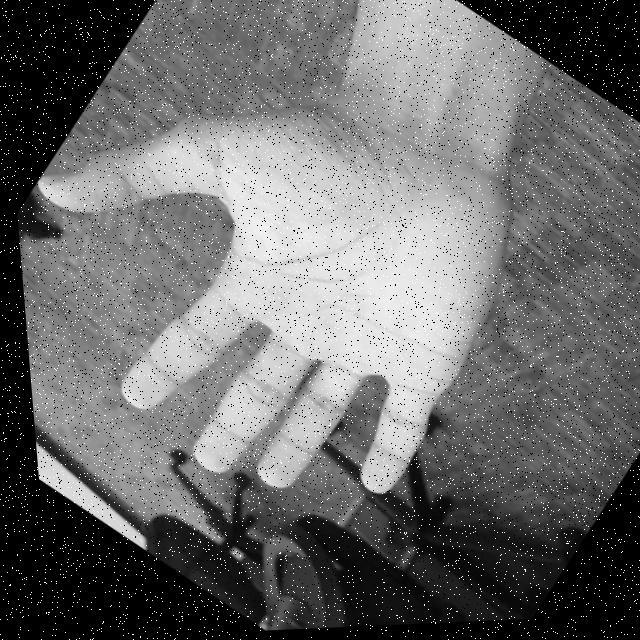no-gloves: (0, 0, 588, 583)
